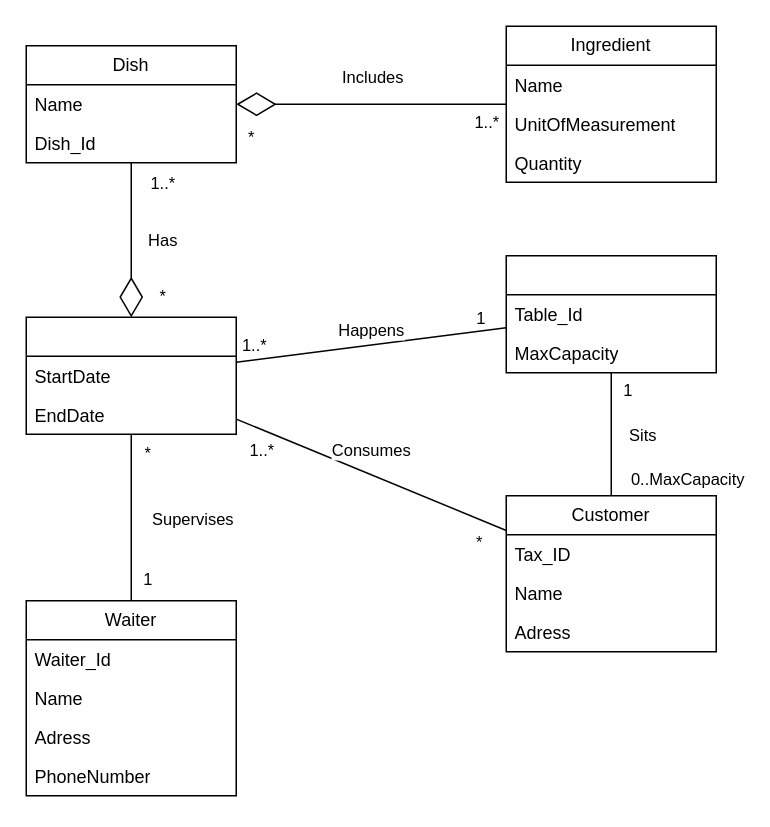
Some shapes in this 770 by 827 pixel diagram are drawn without their labels. The shapes that lost their labels are listed below. From the top down, each one's box as (x1, y1, x2, y2) in pixels, then its label:
(505, 254, 716, 373): Tables
(25, 316, 236, 434): Meal
